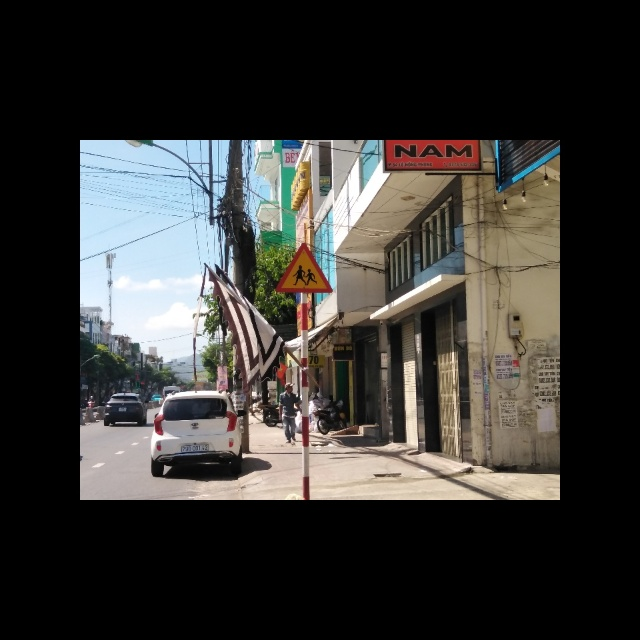Trẻ em ngang qua: (273, 241, 336, 295)
